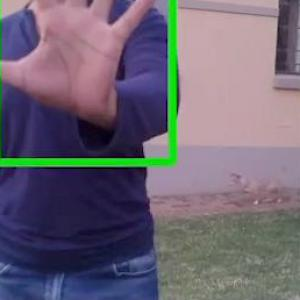follow_hand: (1, 0, 168, 133)
